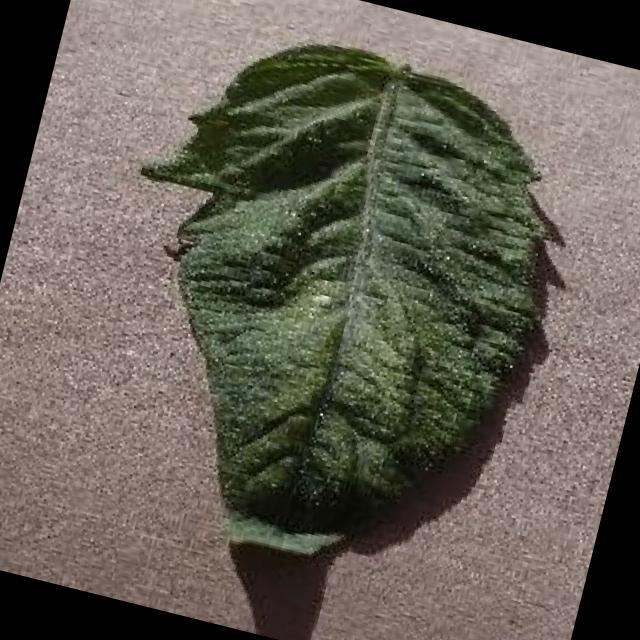Tomato spider mites leaf: (60, 6, 591, 604)
